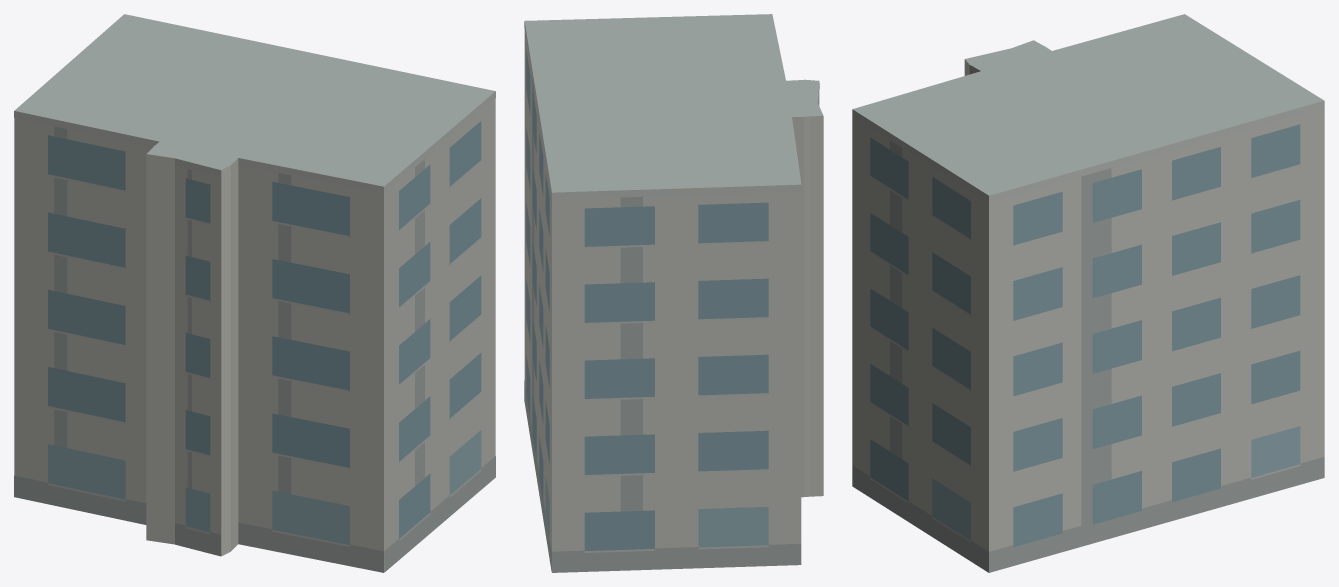
The model's file is survey-upis-32888468.glb.
3 views of the same model, side by side, from view 1: azimuth 30°, elevation 25°; view 2: azimuth 150°, elevation 25°; view 3: azimuth 270°, elevation 25° (orthographic). The views are drawn at different scales.
Parts seen in each view (by area): view 1: survey-upis-32888468.tmp; view 2: survey-upis-32888468.tmp; view 3: survey-upis-32888468.tmp.
Boxes of the visible parts, <box> form: survey-upis-32888468.tmp: <box>14,14,495,572</box>; survey-upis-32888468.tmp: <box>524,14,823,572</box>; survey-upis-32888468.tmp: <box>852,14,1324,572</box>.
Size of the model in its own units: 13.55 by 13.1 by 14.87.
